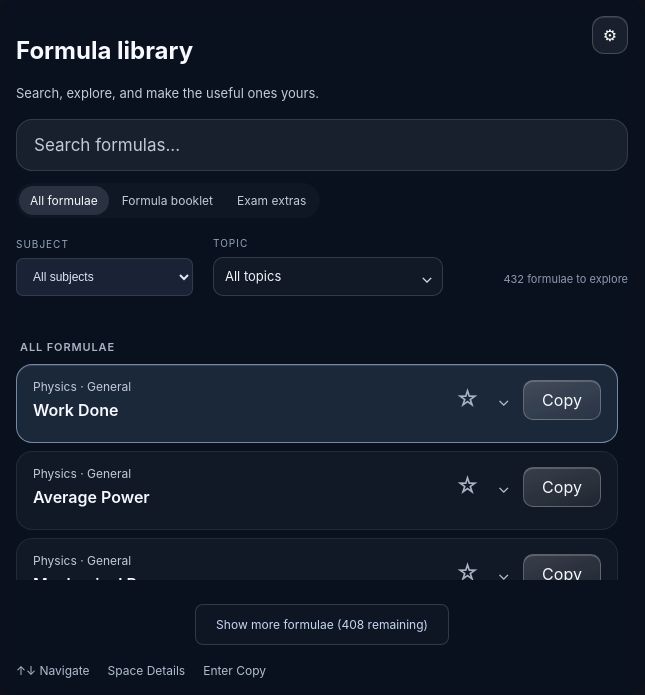
Test case: limits Formula booklet to supplied equations, opens its printed page, and excludes exam extras
Click the button "Formula booklet".
click(167, 200)  # box [111,186,224,215]
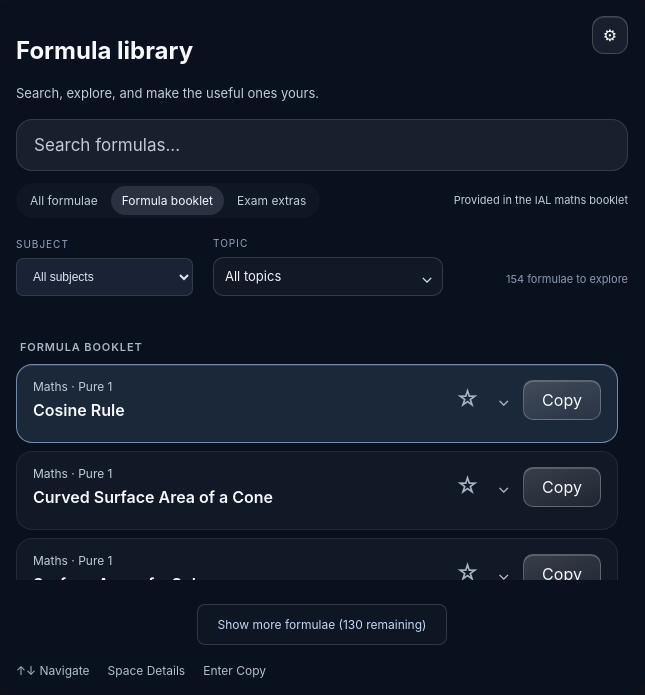
Now the message shows "154 formulae", box [506,272,628,286]
Type "Newton–Raphson" into the field.
click(322, 145); type("Newton–Raphson")  # box [16,119,628,171]
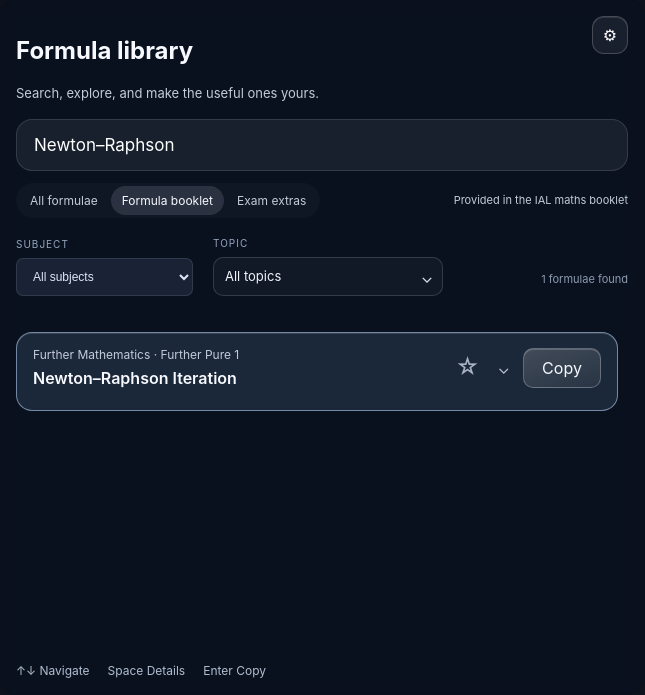
Now the element "Newton–Raphson Iteration" is shown, box [16,332,618,411]
Click the button named "Expand Newton–Raphson Iteration".
click(504, 368)  # box [490,349,517,387]
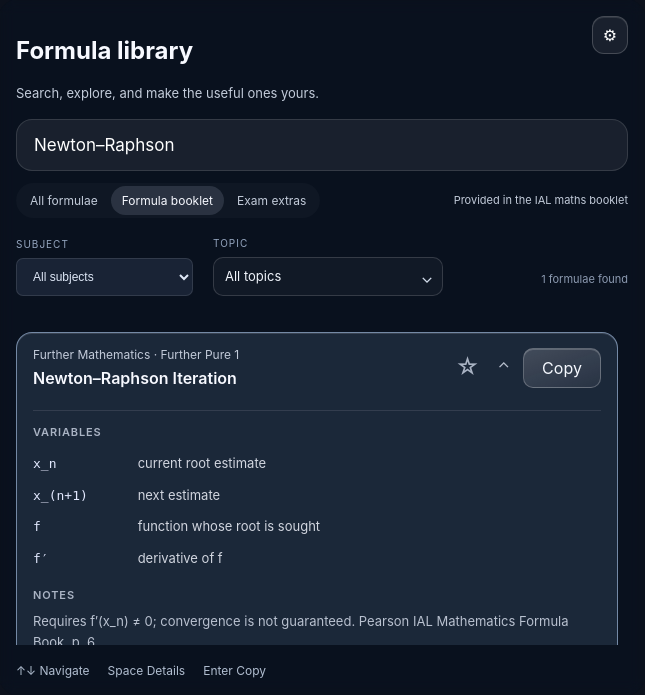
Replace the text in the field with "projectile range" at (322, 145), box [16,119,628,171]
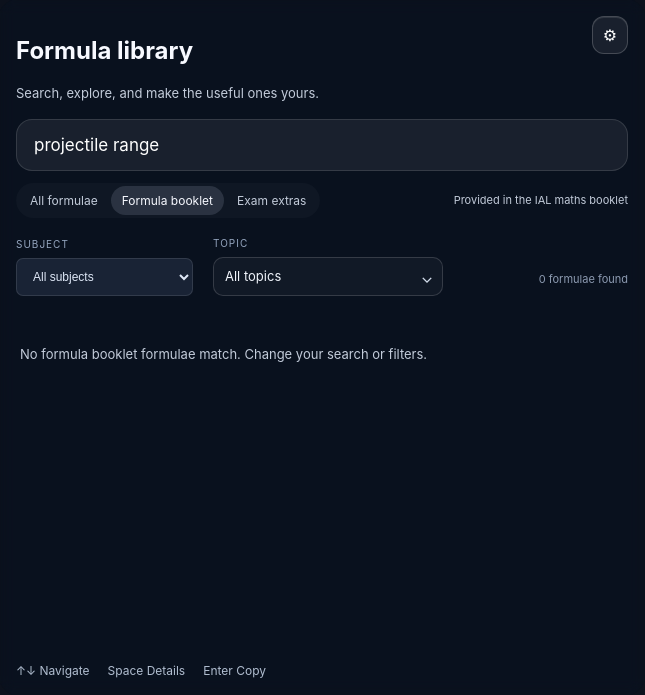
Expected: the element "Projectile Range on Level Ground" is not shown
Click the button "Exam extras".
click(272, 200)  # box [226,186,317,215]
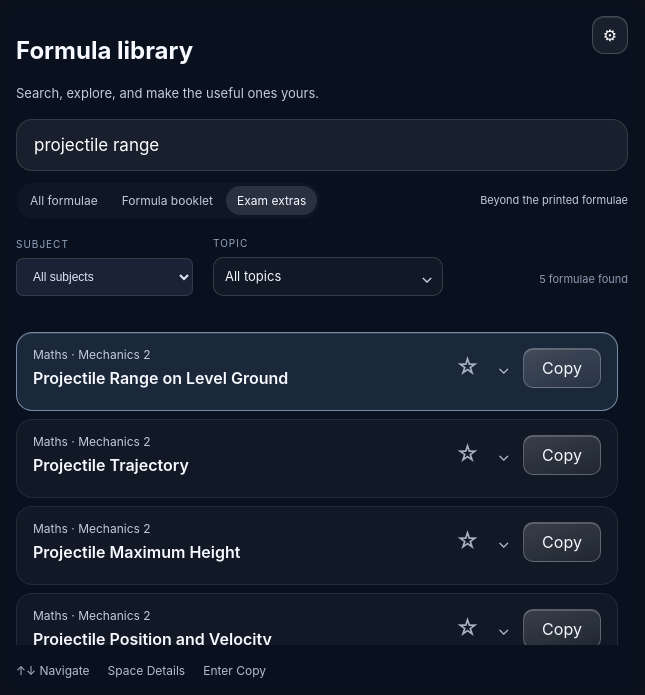
Now the element "Projectile Range on Level Ground" is shown, box [16,332,618,411]
